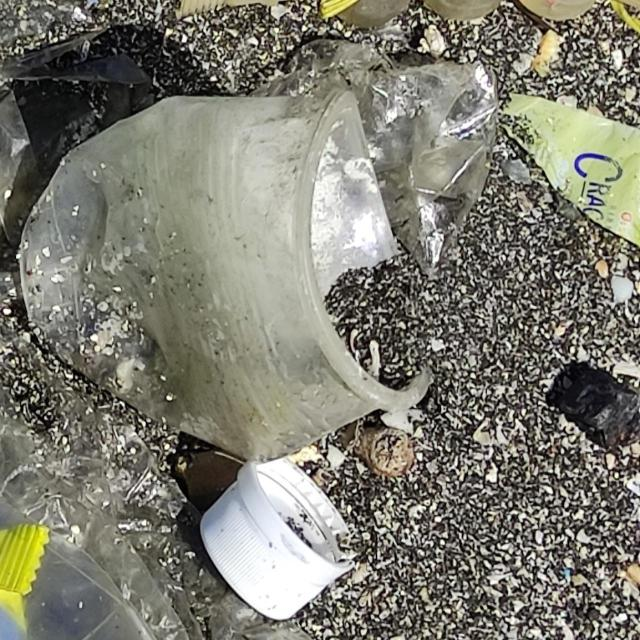plastic_waste: (16, 89, 436, 466), (203, 463, 358, 626)
